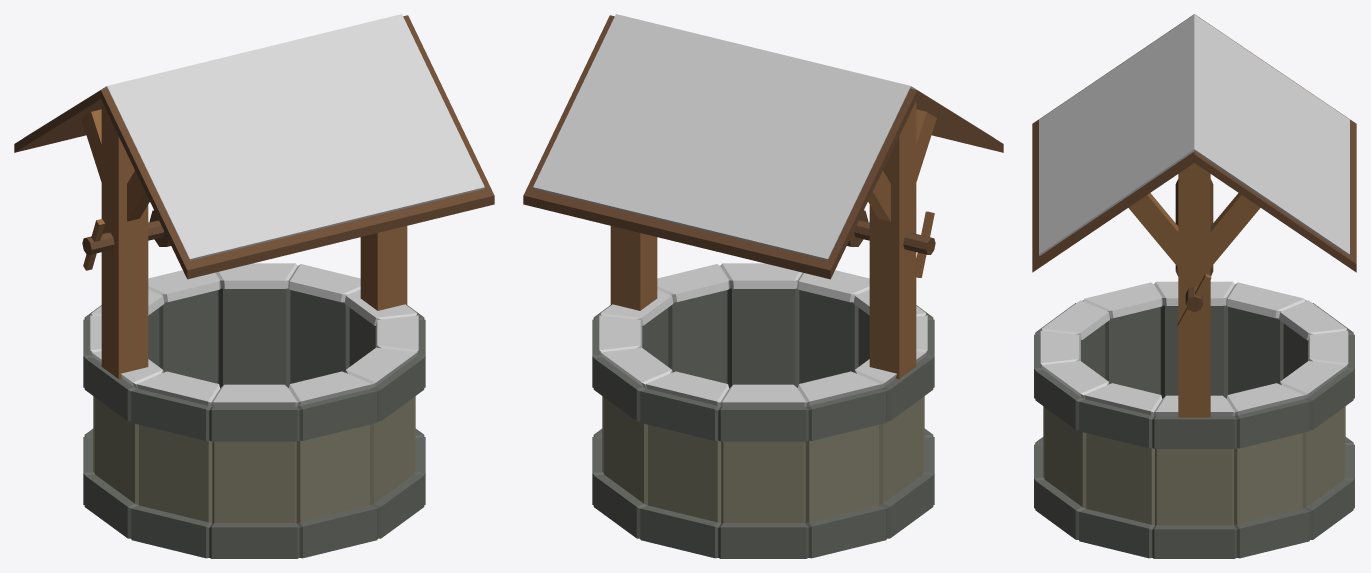
The model's file is Well_base_snow_mat.fbx.
The picture shows the model from 3 angles, left to right: view 1: azimuth 30°, elevation 25°; view 2: azimuth 150°, elevation 25°; view 3: azimuth 270°, elevation 25°; orthographic projection. The views are drawn at different scales.
Visible parts, largest first — view 1: Well_base_snow_mat; view 2: Well_base_snow_mat; view 3: Well_base_snow_mat.
Boxes of the visible parts, left/top/right/bottom form: Well_base_snow_mat: left=14, top=14, right=494, bottom=558; Well_base_snow_mat: left=523, top=14, right=1003, bottom=558; Well_base_snow_mat: left=1032, top=14, right=1356, bottom=558.
Size of the model in its own units: 116 by 144 by 103.
